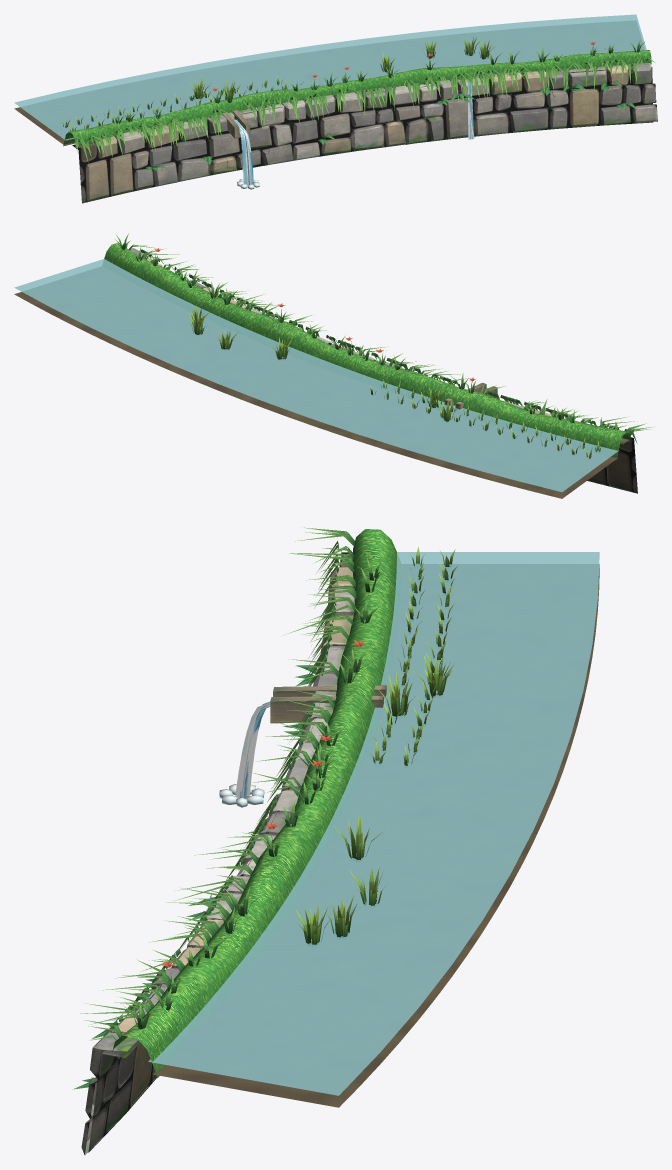
File: terrace_concave_flooded.glb
3 views of the same model, one above another, from view 1: azimuth 30°, elevation 25°; view 2: azimuth 150°, elevation 25°; view 3: azimuth 270°, elevation 25° (orthographic). The views are drawn at different scales.
Parts seen in each view (by area): view 1: terrace_concave_flooded_wall, terrace_concave_flooded_water, terrace_concave_flooded_plants, terrace_concave_flooded_dike, terrace_concave_flooded_spout_fall, terrace_concave_flooded_spout; view 2: terrace_concave_flooded_water, terrace_concave_flooded_dike, terrace_concave_flooded_plants, terrace_concave_flooded_wall; view 3: terrace_concave_flooded_water, terrace_concave_flooded_dike, terrace_concave_flooded_plants, terrace_concave_flooded_wall, terrace_concave_flooded_spout, terrace_concave_flooded_spout_fall.
Boxes of the visible parts, box(x1,y1,x2,y2) form: terrace_concave_flooded_wall: box(72, 63, 657, 203); terrace_concave_flooded_water: box(14, 14, 646, 140); terrace_concave_flooded_plants: box(61, 37, 655, 171); terrace_concave_flooded_dike: box(14, 21, 651, 146); terrace_concave_flooded_spout_fall: box(234, 119, 253, 185); terrace_concave_flooded_spout: box(222, 110, 250, 138); terrace_concave_flooded_water: box(14, 259, 619, 491); terrace_concave_flooded_dike: box(14, 242, 630, 498); terrace_concave_flooded_plants: box(115, 233, 655, 458); terrace_concave_flooded_wall: box(130, 248, 637, 493); terrace_concave_flooded_water: box(148, 552, 599, 1095); terrace_concave_flooded_dike: box(112, 529, 599, 1107); terrace_concave_flooded_plants: box(72, 527, 457, 1089); terrace_concave_flooded_wall: box(81, 551, 354, 1155); terrace_concave_flooded_spout: box(270, 685, 386, 723); terrace_concave_flooded_spout_fall: box(235, 699, 384, 798).
Bounding box in the file's own units: 12.98 × 1.72 × 5.22.
Materials: 6 (5 with a texture image).
